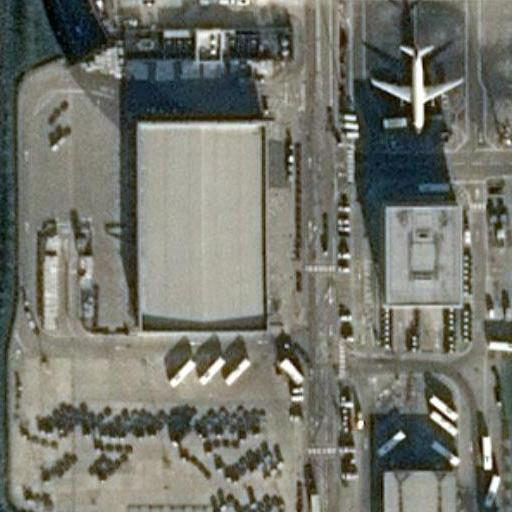Aircraft: (368, 43, 463, 134)
